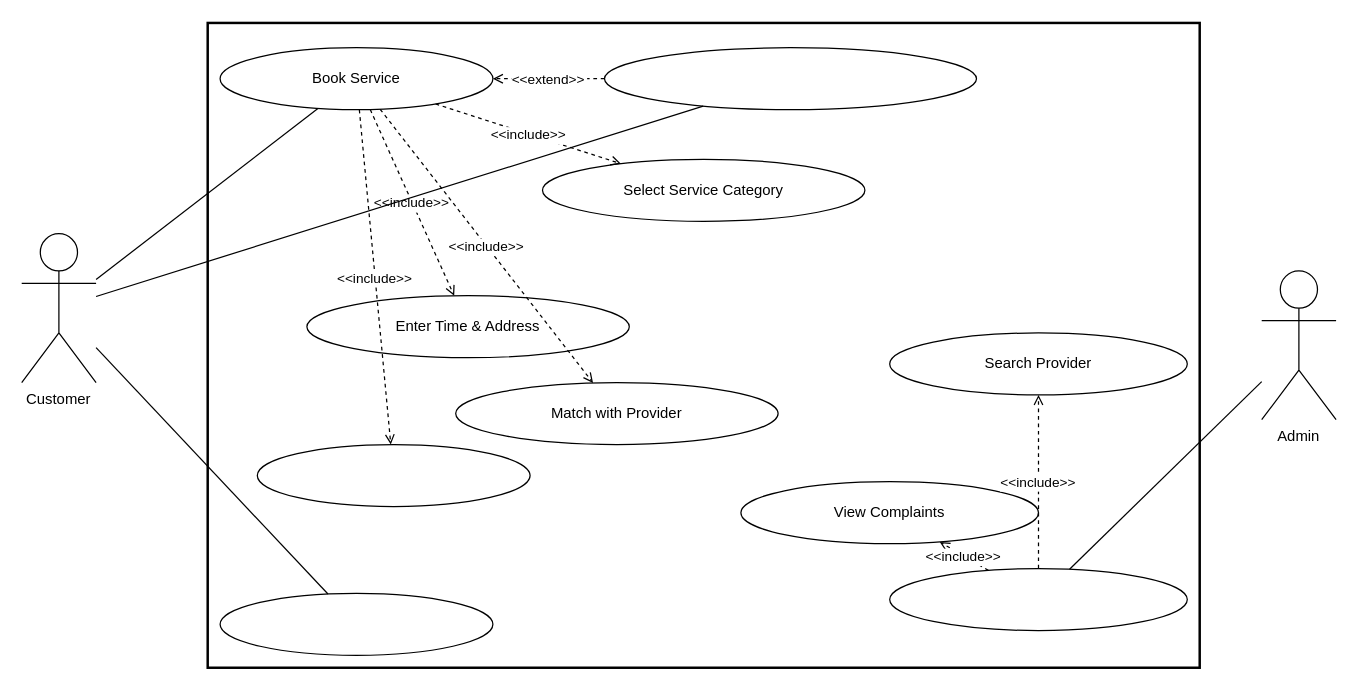
The diagram is 1358 pixels wide and 689 high, and some of its shapes have lost their labels. Each missing label, with the centre of its shape:
"Make Payment" belongs at (393,475).
"Request Emergency Service" belongs at (789,78).
"Suspend Provider" belongs at (1037,599).
"Track Booking" belongs at (356,623).
